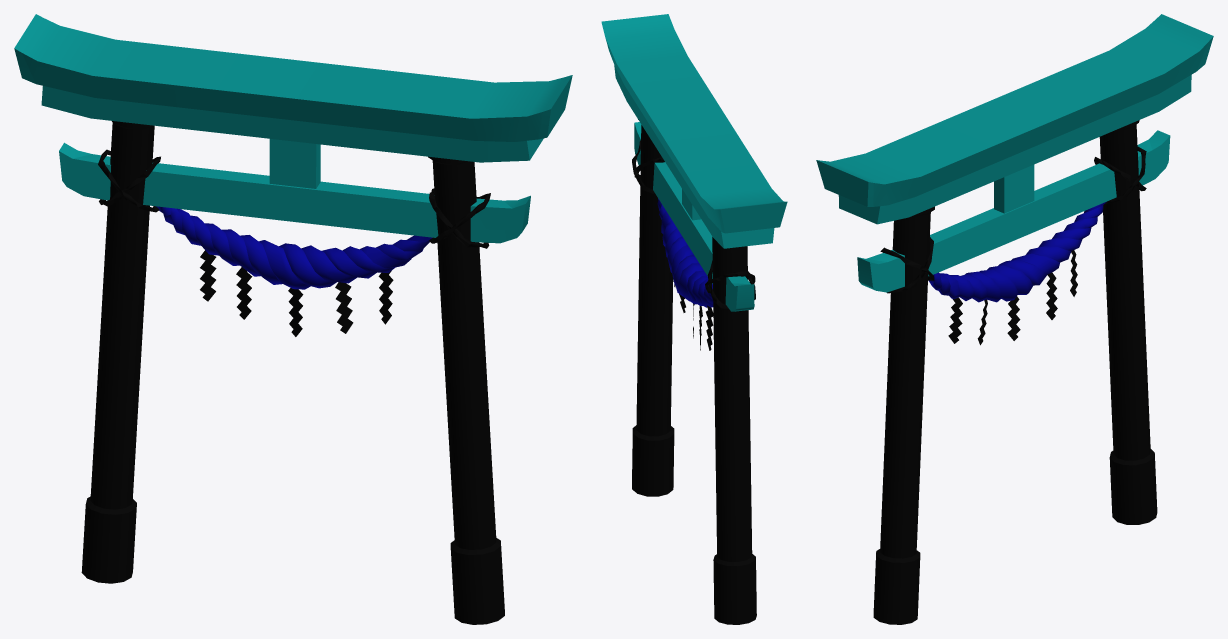
Rendered from SM_ENV_LKNVLD_Shop_Tori_Lod3.gltf.
3 renders of one model, left to right at view 1: azimuth 30°, elevation 25°; view 2: azimuth 150°, elevation 25°; view 3: azimuth 270°, elevation 25°, orthographic. The views are drawn at different scales.
Visible parts, largest first — view 1: SM_ENV_LKNVLD_Shop_Tori_Lod3; view 2: SM_ENV_LKNVLD_Shop_Tori_Lod3; view 3: SM_ENV_LKNVLD_Shop_Tori_Lod3.
Part boxes in pixels (x1,y1,x2,y2): SM_ENV_LKNVLD_Shop_Tori_Lod3: (14, 14, 572, 624); SM_ENV_LKNVLD_Shop_Tori_Lod3: (601, 14, 787, 624); SM_ENV_LKNVLD_Shop_Tori_Lod3: (816, 14, 1213, 624).
Bounding box in the file's own units: 8.12 × 10.56 × 8.12.
